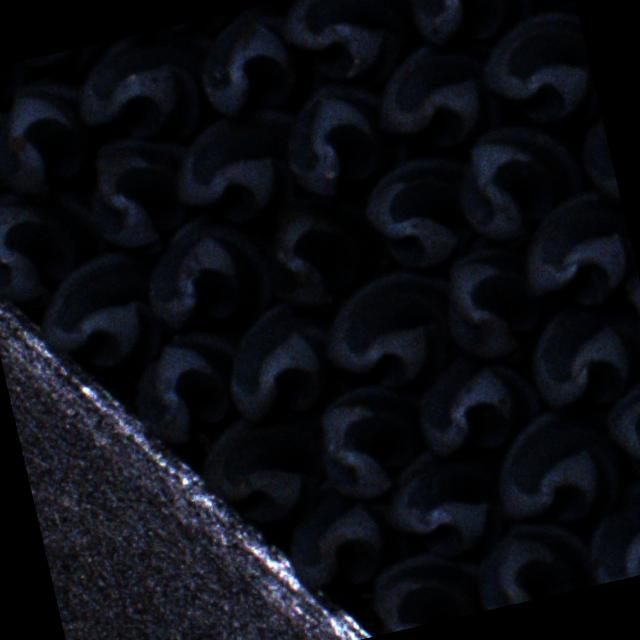tool_b: (64, 17, 233, 154), (310, 262, 467, 404), (163, 100, 319, 236), (444, 111, 592, 250), (29, 246, 174, 387), (482, 398, 629, 536), (134, 202, 283, 335), (252, 178, 395, 314), (189, 404, 334, 536), (214, 293, 354, 427), (273, 70, 415, 202), (364, 30, 508, 160), (123, 321, 259, 456), (375, 438, 516, 568), (302, 373, 440, 505), (75, 124, 208, 260), (468, 4, 600, 140), (510, 182, 640, 316), (428, 230, 552, 370), (404, 344, 545, 466), (276, 478, 416, 600), (0, 170, 118, 314), (184, 0, 323, 121), (354, 148, 483, 278), (515, 291, 640, 418), (275, 0, 433, 96), (464, 510, 600, 611), (0, 70, 105, 200), (360, 544, 487, 636), (572, 473, 640, 585), (402, 0, 539, 52), (568, 92, 622, 214), (13, 36, 135, 82), (597, 373, 640, 498), (0, 97, 27, 223), (0, 59, 33, 112), (513, 0, 576, 16)
